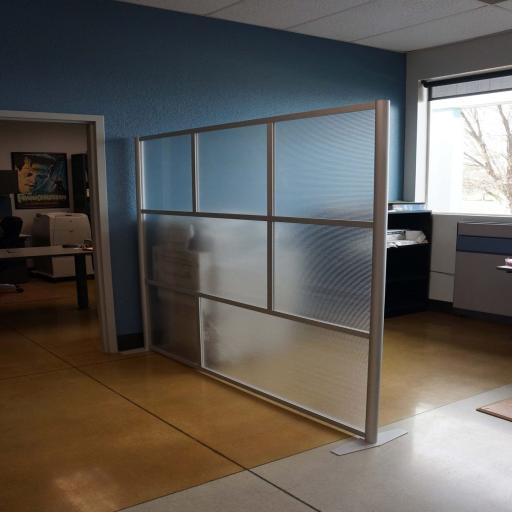bus: (0, 262, 26, 292)
elevator: (140, 103, 382, 433)
stroller: (0, 246, 92, 309)
